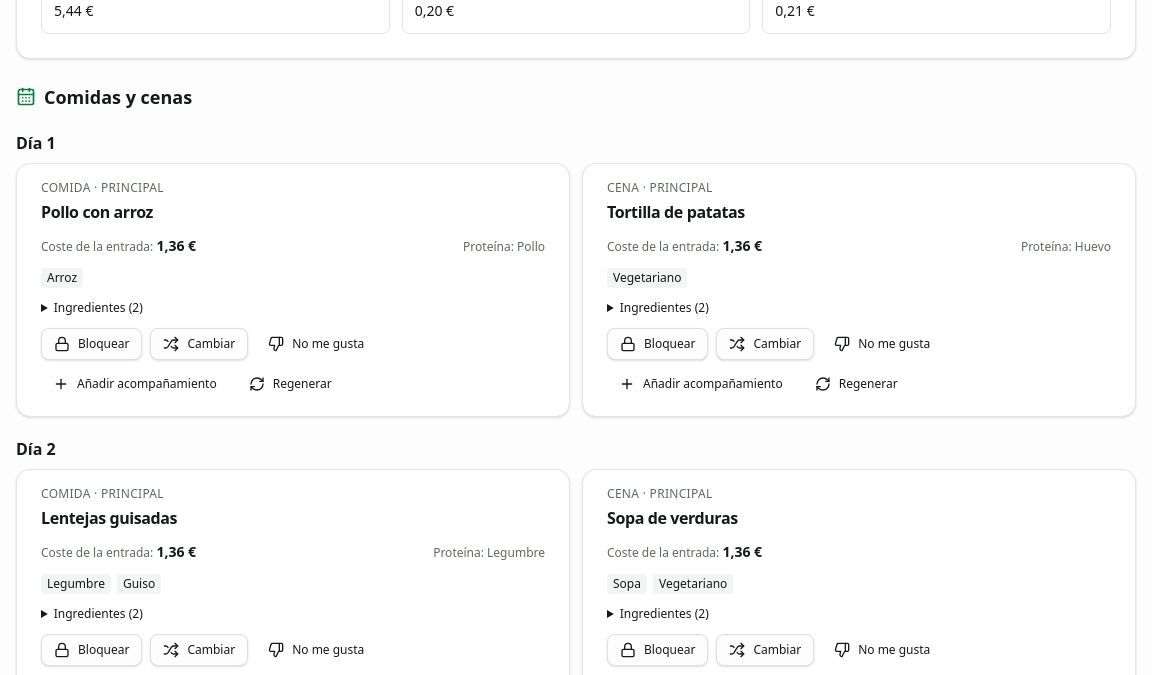
Test case: MenuDetailPage › bloquea y desbloquea una entrada
(page scrolled)
Click the button with aria-label "Bloquear Pollo con arroz": (92, 344) [41, 328, 142, 360]
(page scrolled)
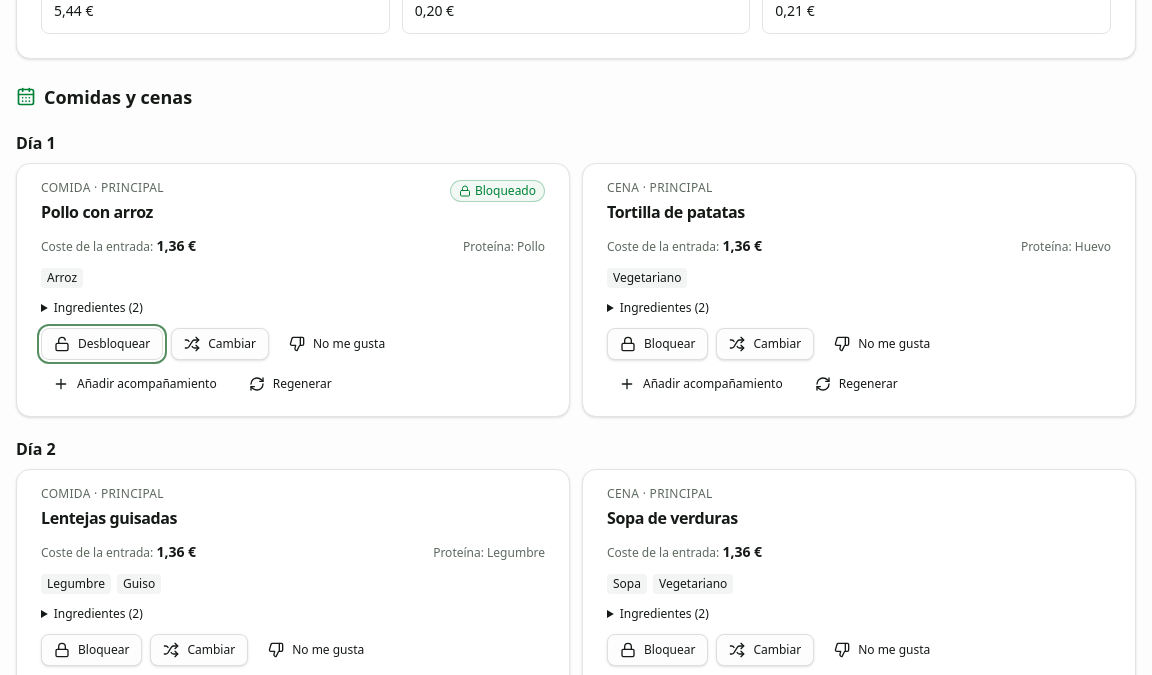
Check: the button with aria-label "Desbloquear Pollo con arroz" is shown
Click the button with aria-label "Desbloquear Pollo con arroz": (102, 344) [41, 328, 163, 360]
(page scrolled)
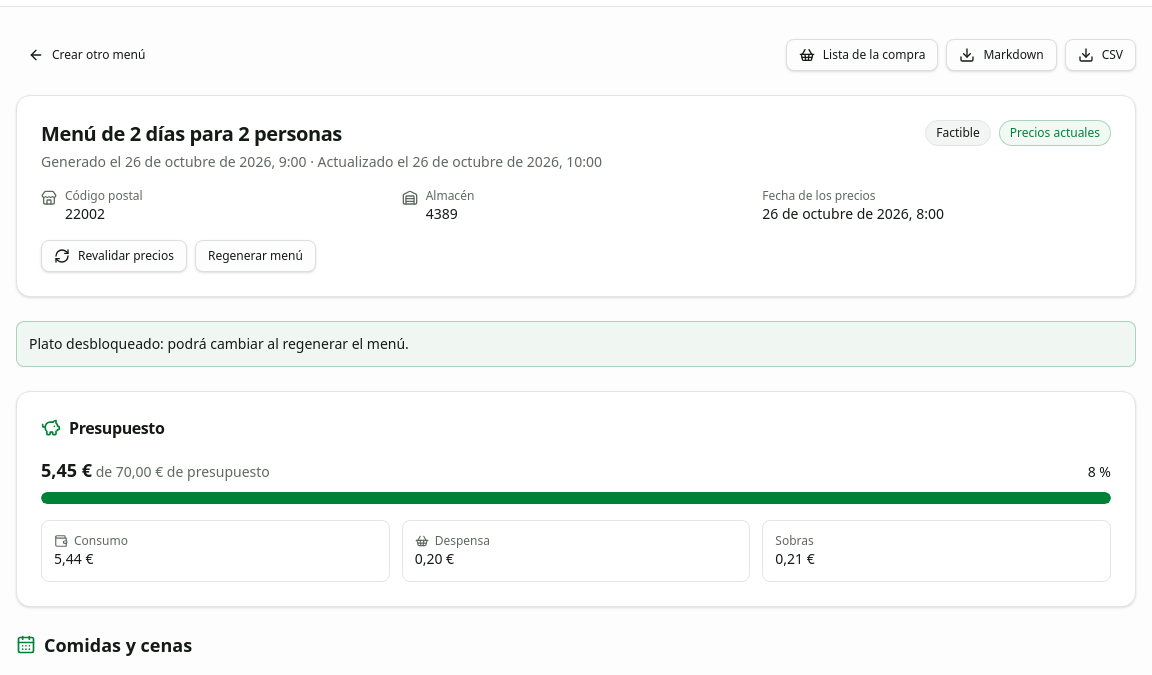
Check: the text "Plato desbloqueado: podrá cambiar al regenerar el menú." is shown, box [16, 321, 1136, 367]
